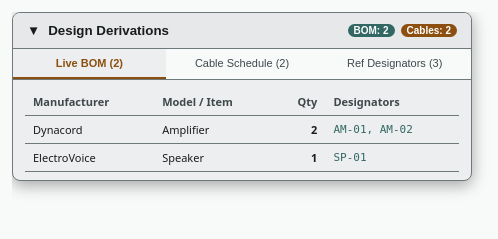
it: Batch 163 (EN.W2) — Design Derivations Tray › proves DesignDerivationsTray correctly consumes and displays the BOM and Reference Designators from CL2 hooks
This screenshot has width=498, height=239.
Expected: the button with test id "derivations-tab-bom" is shown, x1=13 y1=49 x2=166 y2=79
Expected: the table with test id "derivations-bom-table" is shown, x1=25 y1=88 x2=459 y2=172
// Switch to Reference Designators tab
Click the button with test id "derivations-tab-designators": click(395, 64) x1=318 y1=49 x2=471 y2=79
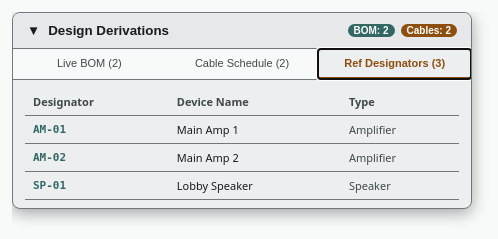
Expected: the cell with test id "designator-dev-amp-1" reads "AM-01", x1=33 y1=123 x2=66 y2=136
Expected: the table with test id "derivations-designators-table" is shown, x1=25 y1=88 x2=459 y2=200
